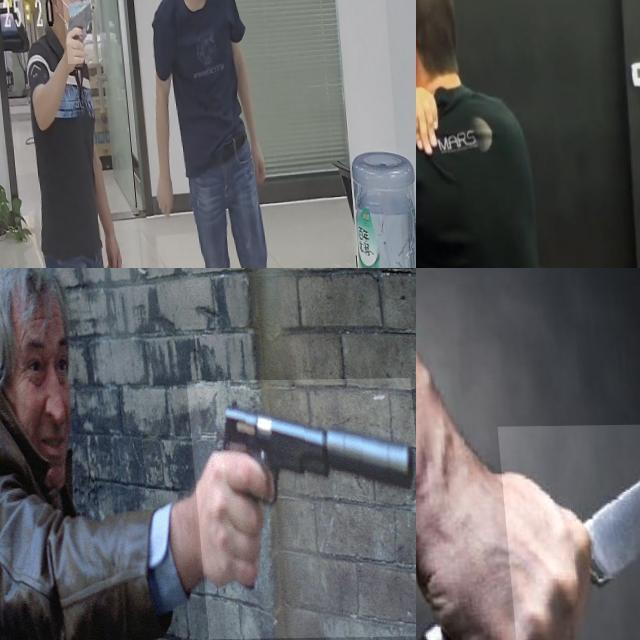-: (492, 425, 640, 640)
gun-knife-thesis - v11 Yolov5 augmented: (181, 379, 416, 640), (62, 0, 101, 64)
